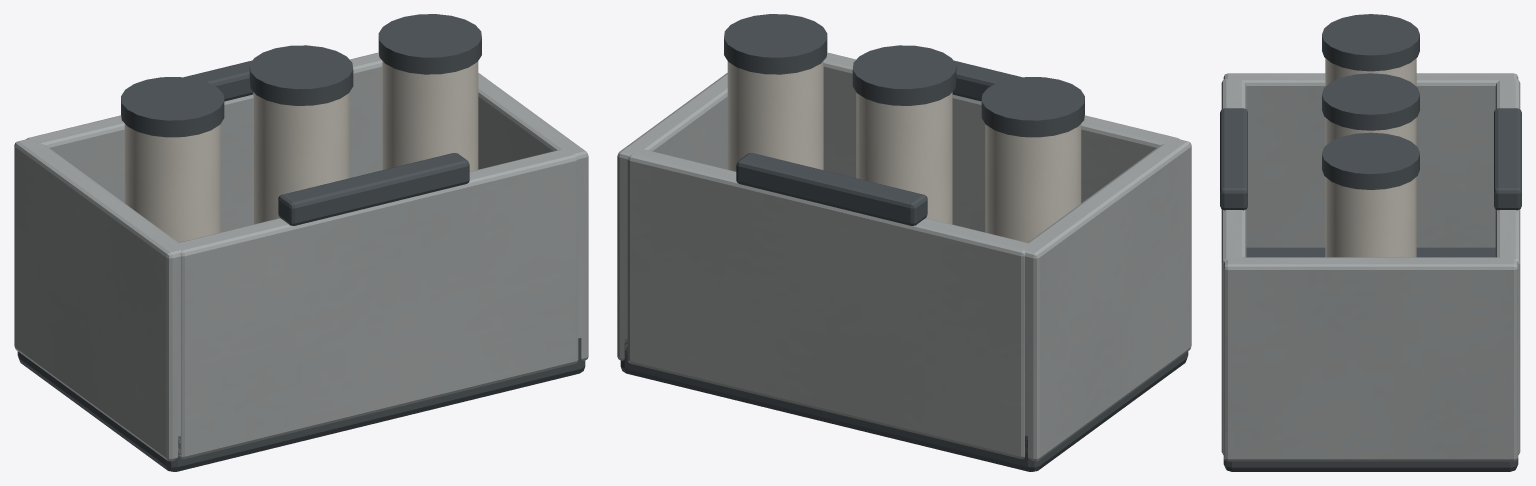
Rendered from assembly_parts_basket.glb.
The picture shows the model from 3 angles, left to right: view 1: azimuth 30°, elevation 25°; view 2: azimuth 150°, elevation 25°; view 3: azimuth 270°, elevation 25°; orthographic projection. The views are drawn at different scales.
Visible parts, largest first — view 1: SideWall, EndWall, SideWall.001, StoredPart, StoredPart.001, StoredPart.002, EndWall.001, Bottom, Handle.001, PartCap.001, PartCap.002, PartCap (+1 smaller); view 2: SideWall.001, EndWall, SideWall, StoredPart, StoredPart.001, StoredPart.002, EndWall.001, Bottom, Handle.002, PartCap.001, PartCap.002, PartCap (+1 smaller); view 3: EndWall.001, EndWall, StoredPart.002, Bottom, PartCap, PartCap.001, PartCap.002, Handle.001, Handle.002, SideWall, SideWall.001, StoredPart.001 (+1 smaller).
Part boxes in pixels (box(x1,y1,x2,y2)): SideWall: box(175, 149, 578, 459); EndWall: box(14, 138, 184, 461); SideWall.001: box(26, 52, 382, 232); StoredPart: box(124, 124, 220, 242); StoredPart.001: box(253, 92, 349, 224); StoredPart.002: box(382, 61, 478, 171); EndWall.001: box(478, 73, 588, 360); Bottom: box(17, 338, 585, 471); Handle.001: box(278, 153, 469, 225); PartCap.001: box(249, 45, 353, 105); PartCap.002: box(378, 14, 481, 74); PartCap: box(121, 77, 224, 137); SideWall.001: box(627, 149, 1030, 459); EndWall: box(1022, 138, 1191, 461); SideWall: box(823, 52, 1179, 232); StoredPart: box(985, 124, 1081, 242); StoredPart.001: box(856, 92, 952, 224); StoredPart.002: box(727, 61, 823, 171); EndWall.001: box(617, 73, 727, 360); Bottom: box(620, 338, 1188, 471); Handle.002: box(736, 153, 927, 225); PartCap.001: box(852, 45, 956, 105); PartCap.002: box(724, 14, 827, 74); PartCap: box(981, 77, 1084, 137); EndWall.001: box(1223, 257, 1518, 461); EndWall: box(1223, 73, 1518, 247); StoredPart.002: box(1325, 177, 1416, 257); Bottom: box(1223, 247, 1518, 471); PartCap: box(1322, 14, 1419, 71); PartCap.001: box(1322, 73, 1419, 130); PartCap.002: box(1322, 132, 1419, 189); Handle.001: box(1220, 108, 1247, 210); Handle.002: box(1494, 108, 1521, 210); SideWall: box(1221, 78, 1246, 454); SideWall.001: box(1495, 78, 1520, 454); StoredPart.001: box(1325, 117, 1416, 145).
Size of the model in its own units: 0.655 by 0.4475 by 0.43.
Materials: 3 (2 with a texture image).
